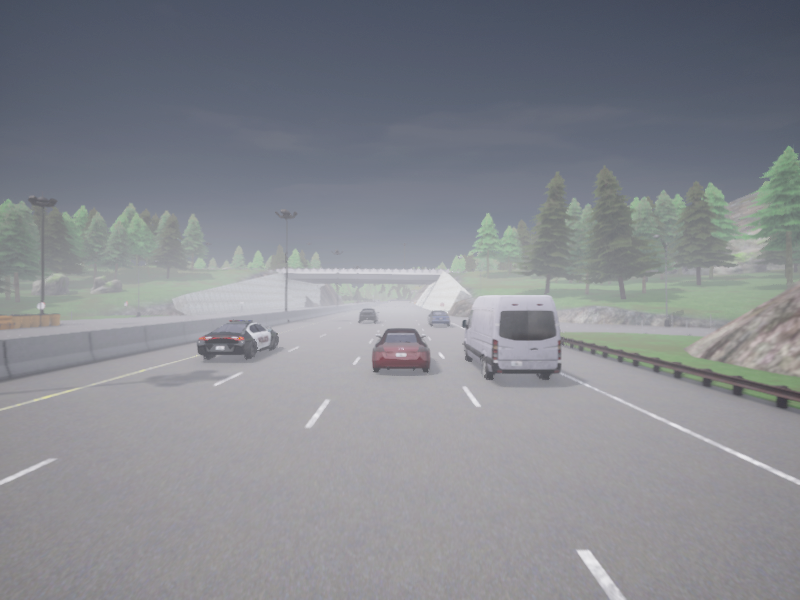vehicle: (462, 295, 561, 379), (196, 320, 277, 358), (372, 328, 429, 371), (427, 311, 449, 325), (359, 308, 378, 322)
